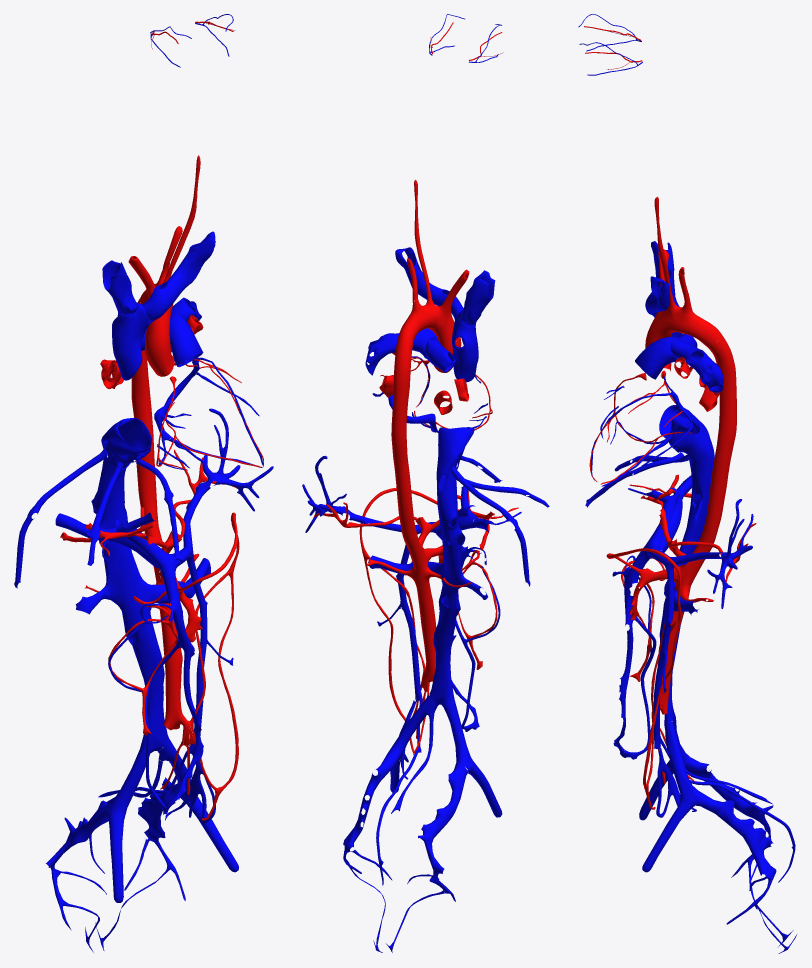
File: vessels.glb
3 renders of one model, left to right at view 1: azimuth 30°, elevation 25°; view 2: azimuth 150°, elevation 25°; view 3: azimuth 270°, elevation 25°, orthographic. The views are drawn at different scales.
Parts seen in each view (by area): view 1: VH_M_inferior_vena_cava_b, VH_M_descending_aorta_b, VH_M_superior_mesenteric_vein, VH_M_inferior_vena_cava_a, VH_M_splenic_vein, VH_M_brachiocephalic_vein_L, VH_M_superior_vena_cava, VH_M_marginal_artery_of_Drummond, VH_M_descending_aorta_a, VH_M_brachiocephalic_vein_R, VH_M_inferior_mesenteric_vein, VH_M_pulmonary_trunk (+18 smaller); view 2: VH_M_inferior_vena_cava_b, VH_M_descending_aorta_b, VH_M_descending_aorta_a, VH_M_inferior_vena_cava_a, VH_M_internal_iliac_vein_R, VH_M_aortic_arch, VH_M_superior_vena_cava, VH_M_splenic_vein, VH_M_brachiocephalic_vein_R, VH_M_brachiocephalic_vein_L, VH_M_internal_iliac_vein_L, VH_M_marginal_artery_of_Drummond (+8 smaller); view 3: VH_M_descending_aorta_a, VH_M_descending_aorta_b, VH_M_inferior_vena_cava_b, VH_M_inferior_vena_cava_a, VH_M_internal_iliac_vein_L, VH_M_aortic_arch, VH_M_splenic_vein, VH_M_superior_mesenteric_vein, VH_M_pulmonary_artery_L, VH_M_inferior_mesenteric_vein, VH_M_internal_iliac_vein_R, VH_M_marginal_artery_of_Drummond (+13 smaller).
Part boxes in pixels (<box>): VH_M_inferior_vena_cava_b: <box>91,474,169,753</box>; VH_M_descending_aorta_b: <box>136,459,182,730</box>; VH_M_superior_mesenteric_vein: <box>158,564,203,812</box>; VH_M_inferior_vena_cava_a: <box>101,418,152,482</box>; VH_M_splenic_vein: <box>170,408,273,567</box>; VH_M_brachiocephalic_vein_L: <box>142,231,215,321</box>; VH_M_superior_vena_cava: <box>112,302,152,380</box>; VH_M_marginal_artery_of_Drummond: <box>179,512,239,820</box>; VH_M_descending_aorta_a: <box>131,298,154,461</box>; VH_M_brachiocephalic_vein_R: <box>102,260,137,315</box>; VH_M_inferior_mesenteric_vein: <box>186,547,207,755</box>; VH_M_pulmonary_trunk: <box>169,313,203,367</box>; VH_M_inferior_vena_cava_b: <box>429,489,465,707</box>; VH_M_descending_aorta_b: <box>396,485,436,682</box>; VH_M_descending_aorta_a: <box>391,343,412,489</box>; VH_M_inferior_vena_cava_a: <box>436,427,474,493</box>; VH_M_internal_iliac_vein_R: <box>418,762,467,883</box>; VH_M_aortic_arch: <box>397,304,459,348</box>; VH_M_superior_vena_cava: <box>451,310,478,382</box>; VH_M_splenic_vein: <box>302,455,440,534</box>; VH_M_brachiocephalic_vein_R: <box>461,270,495,325</box>; VH_M_brachiocephalic_vein_L: <box>395,247,463,319</box>; VH_M_internal_iliac_vein_L: <box>343,752,399,852</box>; VH_M_marginal_artery_of_Drummond: <box>359,487,437,752</box>; VH_M_descending_aorta_a: <box>709,334,736,488</box>; VH_M_descending_aorta_b: <box>657,485,726,714</box>; VH_M_inferior_vena_cava_b: <box>659,470,712,722</box>; VH_M_inferior_vena_cava_a: <box>659,405,714,472</box>; VH_M_internal_iliac_vein_L: <box>696,791,776,881</box>; VH_M_aortic_arch: <box>647,306,721,348</box>; VH_M_splenic_vein: <box>645,499,753,608</box>; VH_M_superior_mesenteric_vein: <box>613,545,651,753</box>; VH_M_pulmonary_artery_L: <box>670,338,723,392</box>; VH_M_inferior_mesenteric_vein: <box>653,561,674,749</box>; VH_M_internal_iliac_vein_R: <box>684,757,773,847</box>; VH_M_marginal_artery_of_Drummond: <box>606,548,681,809</box>.
Size of the model in its own units: 0.2361 by 0.8718 by 0.1873.
